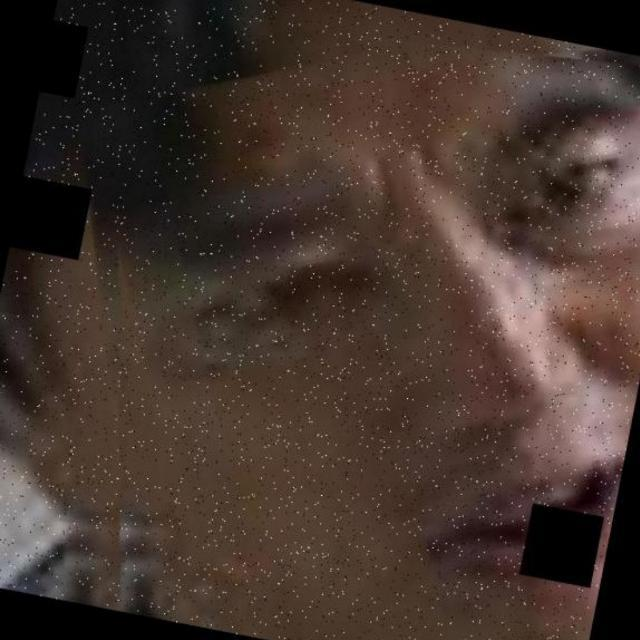angry: (61, 98, 640, 632)
